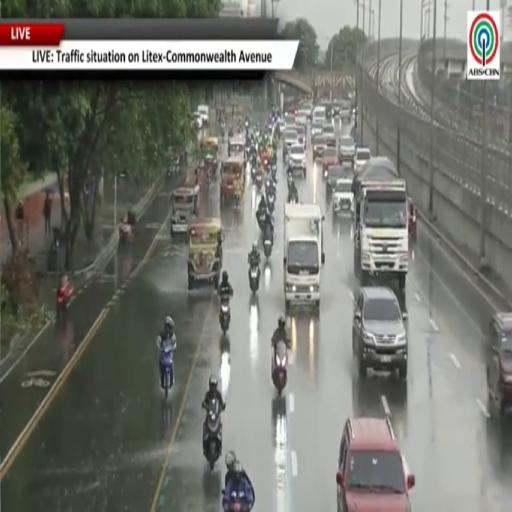car: (336, 416, 415, 511), (352, 286, 407, 379), (487, 313, 511, 415), (332, 179, 353, 213), (327, 164, 353, 190), (288, 142, 306, 177), (322, 148, 338, 179), (339, 135, 356, 162), (283, 127, 297, 155), (354, 147, 371, 170), (313, 135, 326, 158), (197, 105, 209, 126), (296, 125, 306, 149), (340, 101, 351, 122), (311, 121, 323, 137), (193, 112, 203, 130), (322, 124, 335, 137), (295, 110, 306, 125), (326, 136, 337, 148), (332, 103, 340, 117)
jeepney: (188, 219, 221, 289), (171, 184, 199, 234), (221, 156, 245, 203), (202, 137, 218, 173), (228, 137, 245, 160)
motorcycle: (203, 399, 223, 470), (272, 341, 287, 395), (161, 346, 174, 397), (222, 490, 251, 511), (56, 281, 73, 316), (219, 298, 230, 334), (119, 222, 133, 244), (249, 265, 260, 293), (408, 206, 417, 239), (263, 235, 272, 258), (256, 210, 266, 230), (267, 192, 275, 214), (255, 173, 263, 190), (251, 160, 256, 182), (271, 164, 276, 182), (235, 191, 240, 209), (287, 174, 293, 188), (289, 194, 298, 203), (221, 126, 225, 140)
truck: (353, 157, 408, 290), (283, 204, 324, 311)
